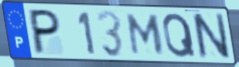1: (77, 10, 97, 56)
3: (96, 9, 126, 59)
M: (126, 12, 166, 56)
N: (190, 12, 233, 61)
P: (29, 7, 62, 56)
Q: (161, 12, 198, 60)
